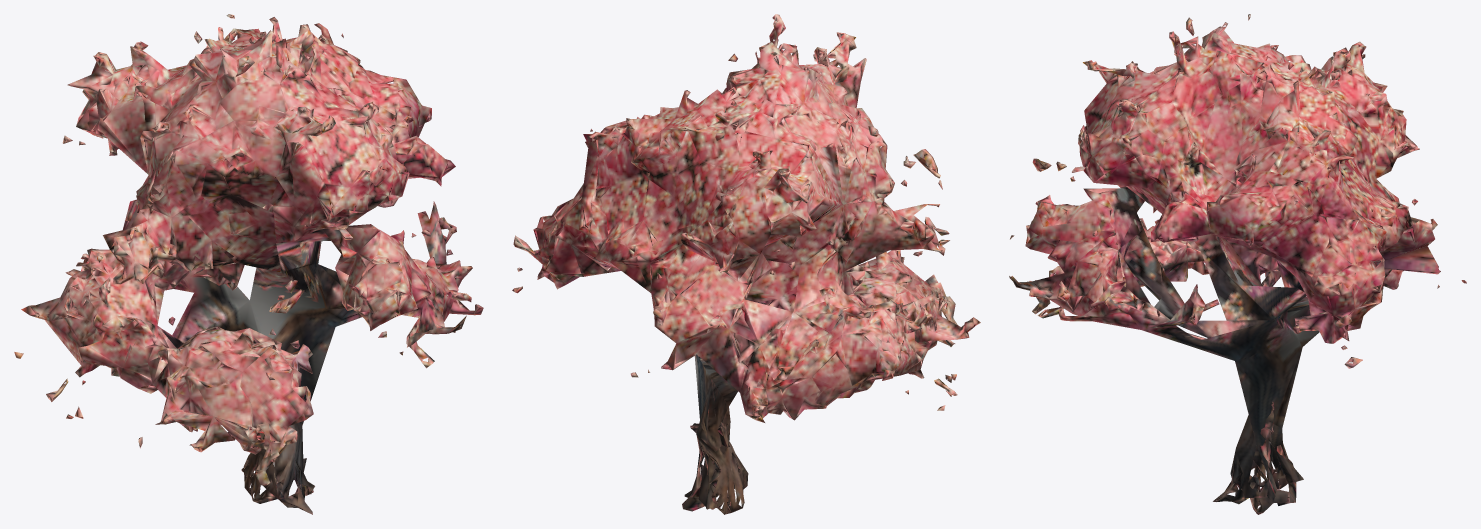
File: 롯데_벚나무2.glb
The picture shows the model from 3 angles, left to right: view 1: azimuth 30°, elevation 25°; view 2: azimuth 150°, elevation 25°; view 3: azimuth 270°, elevation 25°; orthographic projection. The views are drawn at different scales.
Visible parts, largest first — view 1: texture_mapping; view 2: texture_mapping; view 3: texture_mapping.
Part boxes in pixels (x1,y1,x2,y2): texture_mapping: (14, 14, 483, 514); texture_mapping: (512, 14, 980, 514); texture_mapping: (1009, 14, 1466, 514).
Bounding box in the file's own units: 0.8964 × 0.9864 × 0.8839.
Materials: 1 (1 with a texture image).
